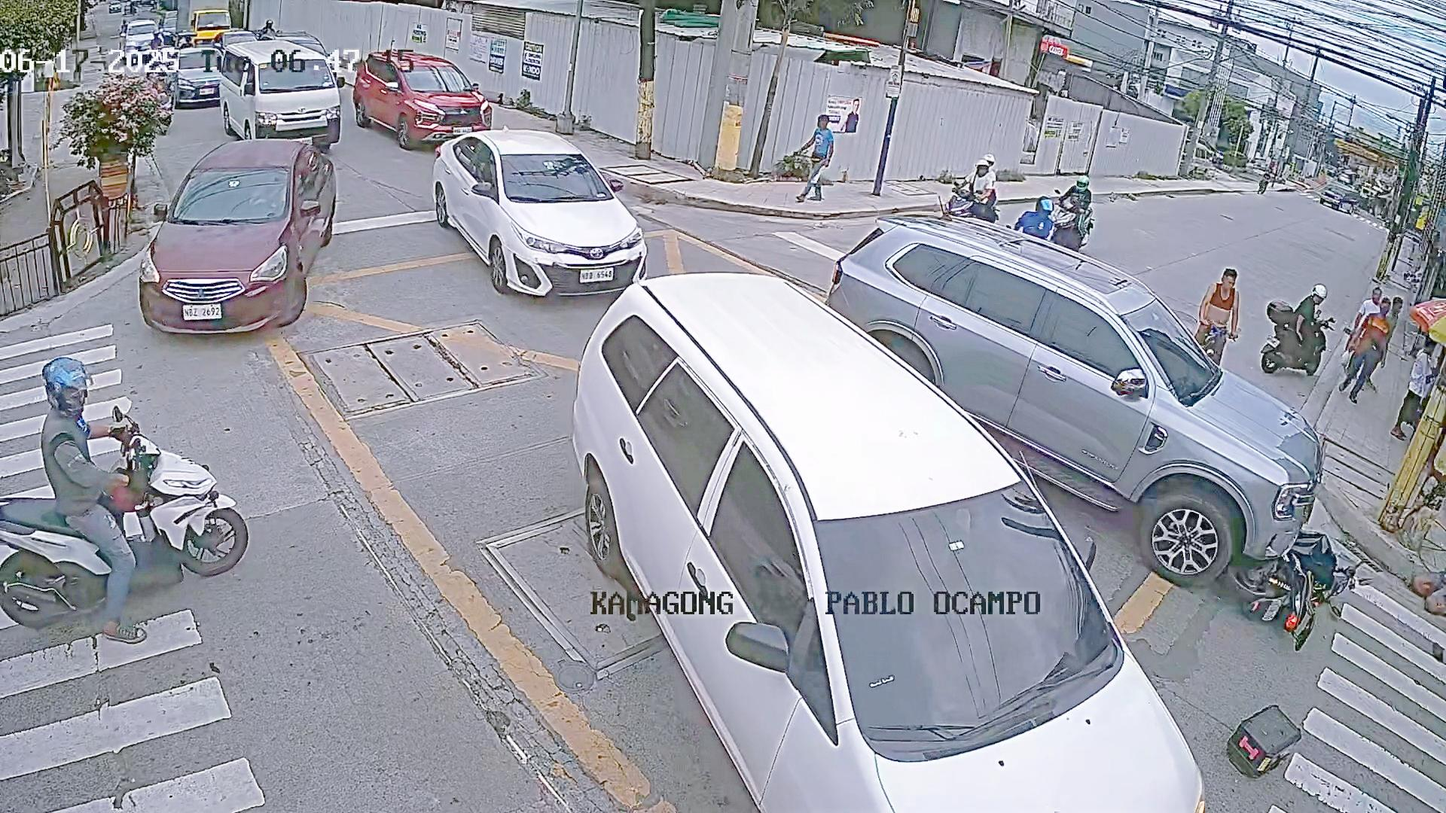Car: (509, 262, 1221, 813), (869, 215, 1322, 564), (412, 110, 675, 313), (141, 137, 363, 351), (215, 34, 366, 139), (355, 41, 493, 143)
Minor Accident: (839, 245, 1356, 649)
Motor: (0, 355, 300, 616), (1219, 517, 1377, 656), (1258, 277, 1335, 384), (1017, 177, 1118, 247), (935, 152, 1018, 225)
